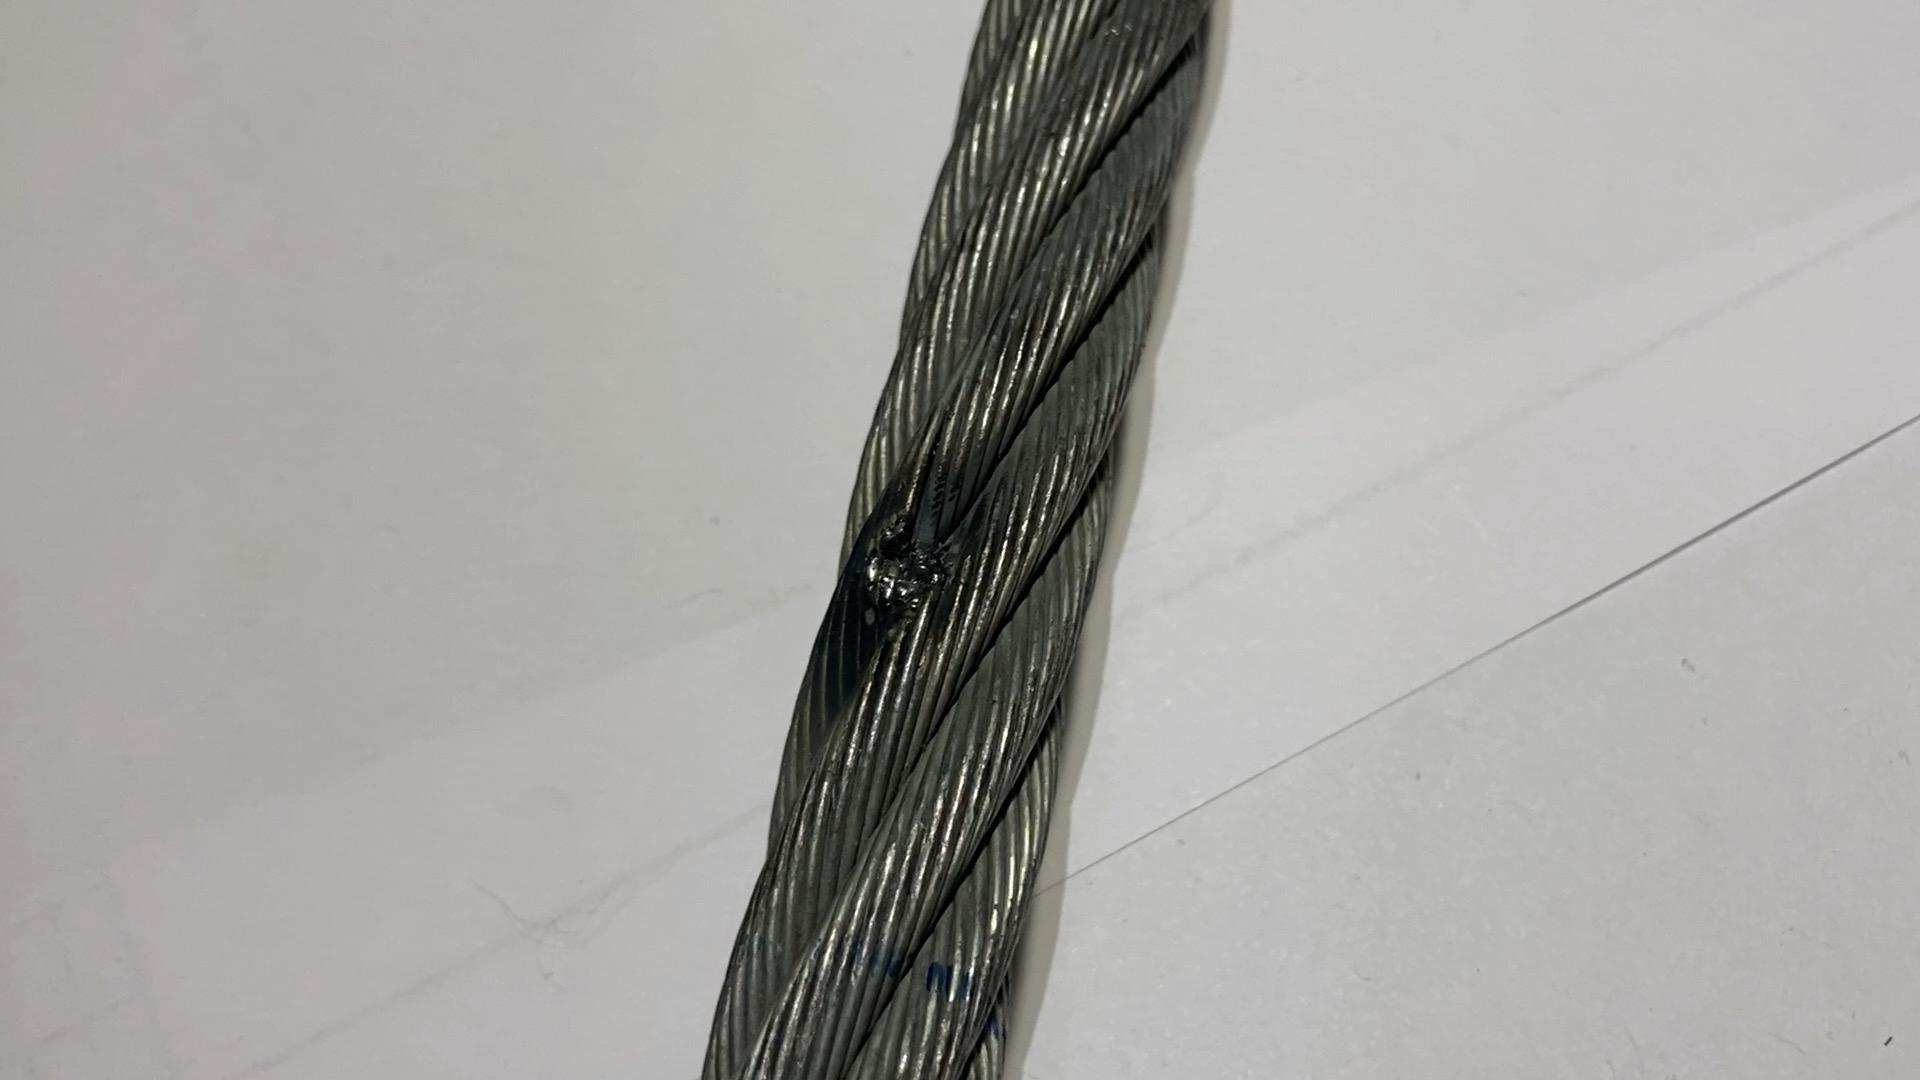thunderbolt: (861, 493, 977, 626)
